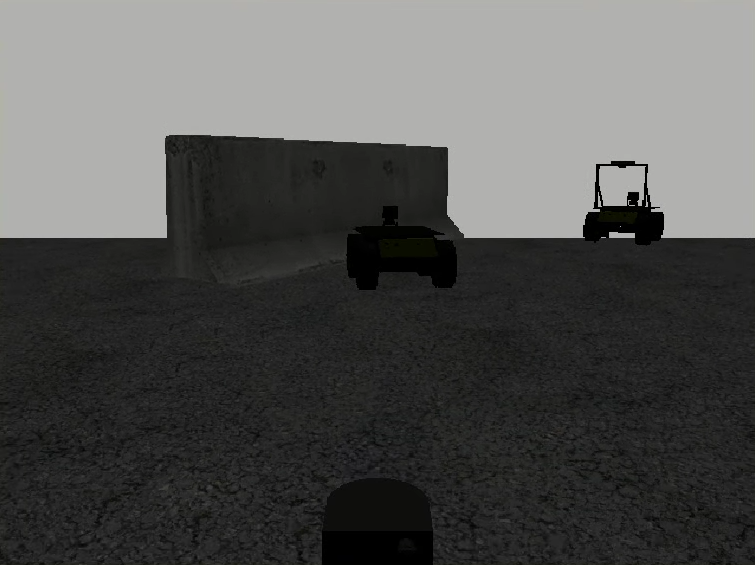husky: (345, 225, 457, 290), (583, 206, 664, 245)
